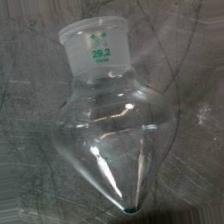Pear shaped flask: (35, 16, 180, 214)
